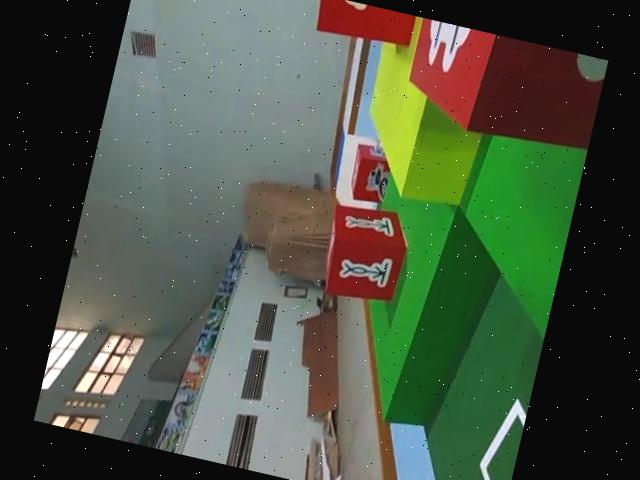R1: (344, 141, 402, 209)
R2 Fake: (300, 0, 413, 53)
R2 Real: (396, 17, 608, 158), (317, 201, 419, 309)
